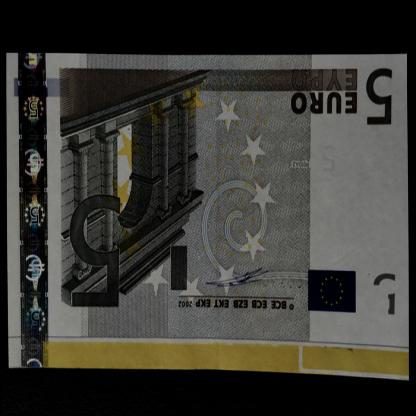euro_banknote: (8, 54, 410, 382)
